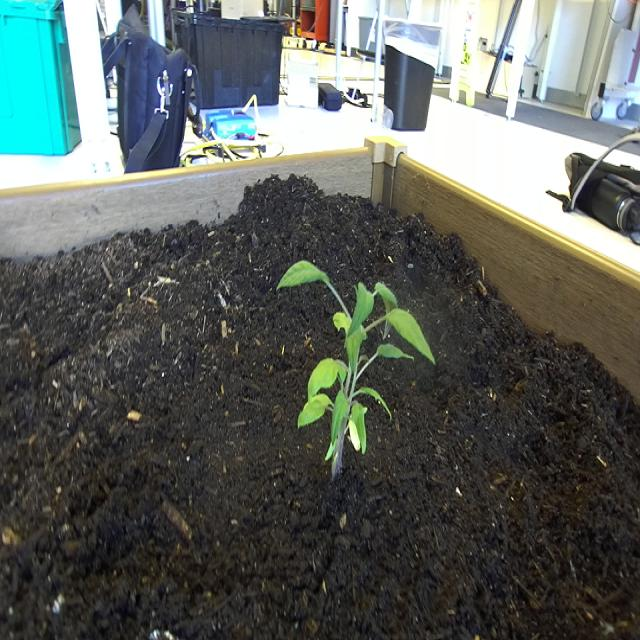Healthy: (275, 255, 437, 492)
